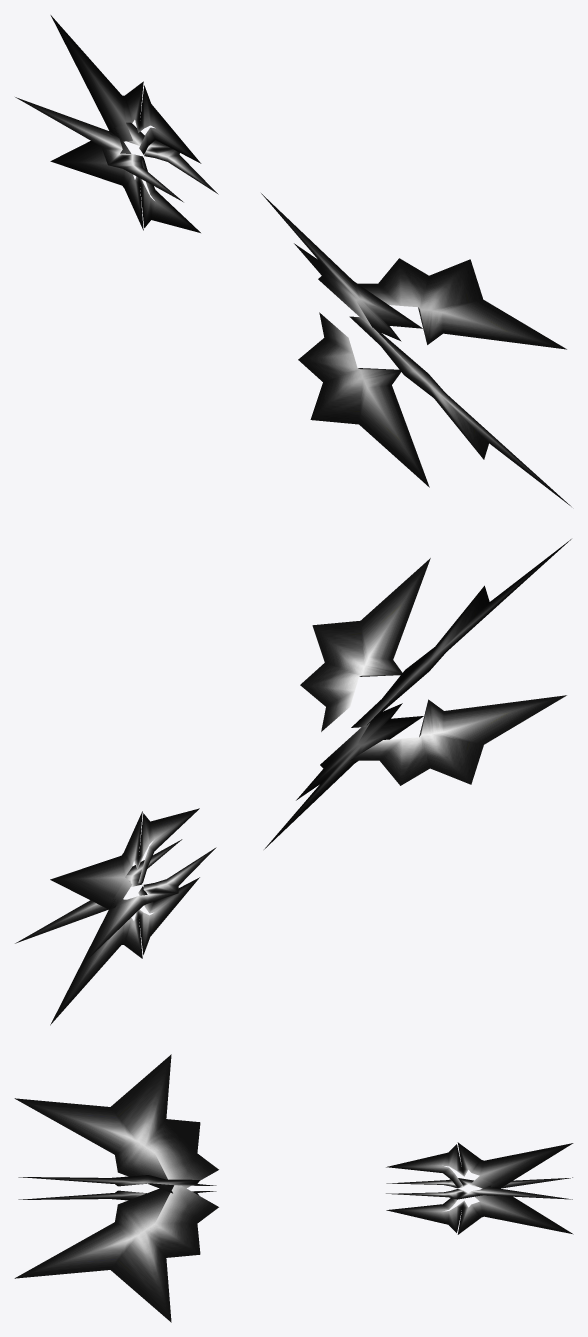
File: yinxinzhizhang002.fbx
3 views of the same model, one above another, from view 1: azimuth 30°, elevation 25°; view 2: azimuth 150°, elevation 25°; view 3: azimuth 270°, elevation 25° (orthographic). The views are drawn at different scales.
Parts seen in each view (by area): view 1: yinxinzhizhang002; view 2: yinxinzhizhang002; view 3: yinxinzhizhang002.
Boxes of the visible parts, x1=… form: yinxinzhizhang002: x1=15, y1=15, x2=571, y2=506; yinxinzhizhang002: x1=15, y1=539, x2=571, y2=1025; yinxinzhizhang002: x1=14, y1=1054, x2=573, y2=1322.
Bounding box in the file's own units: 184 × 253 × 640.
